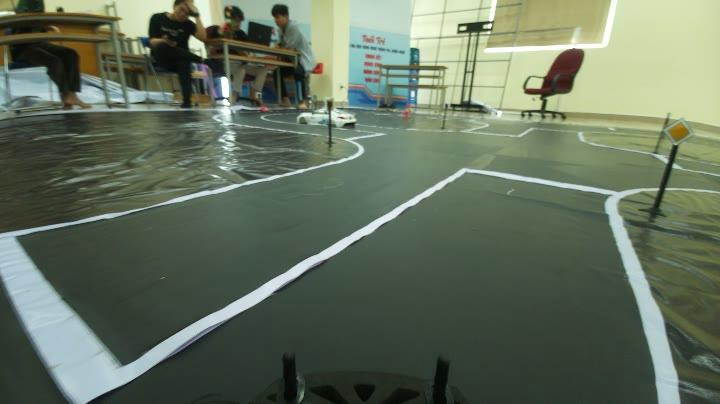priority: (662, 115, 693, 148)
